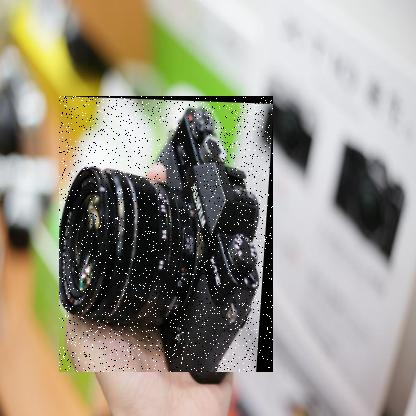Camera: (60, 97, 275, 374)
